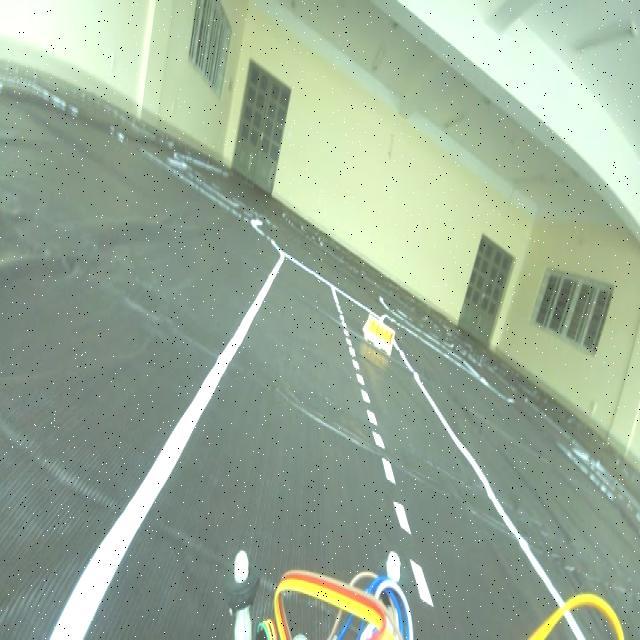roadblock: (357, 309, 397, 361)
